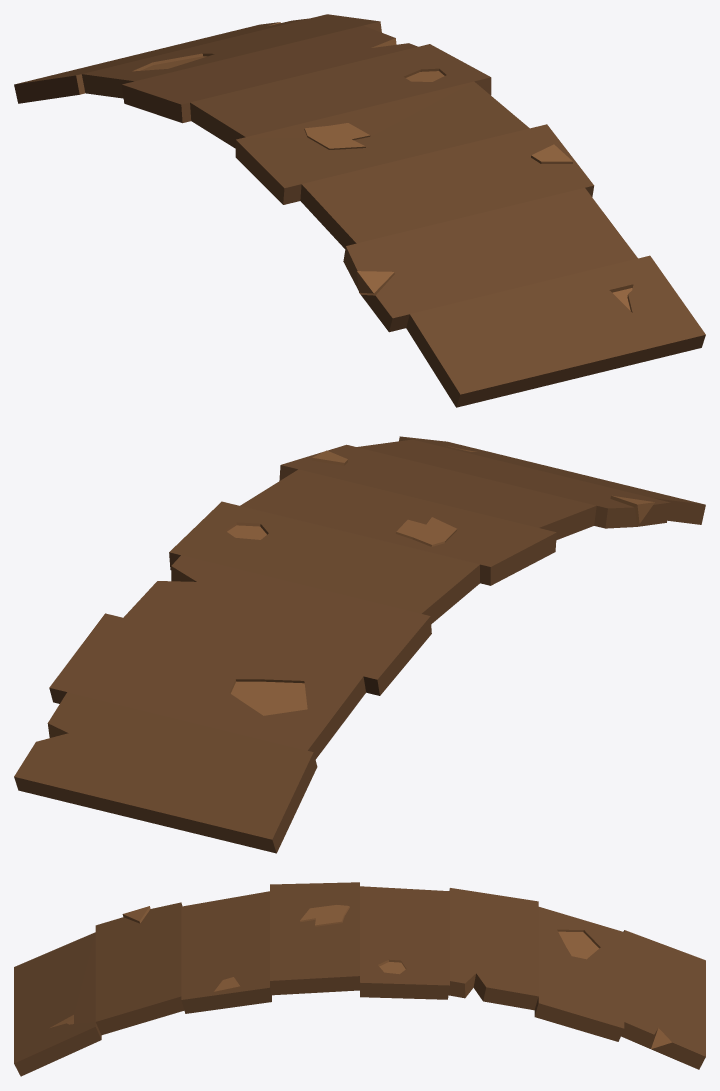
Rendered from Bridge_5_Light_Brown.fbx.
The picture shows the model from 3 angles, top to bottom: view 1: azimuth 30°, elevation 25°; view 2: azimuth 150°, elevation 25°; view 3: azimuth 270°, elevation 25°; orthographic projection. The views are drawn at different scales.
Visible parts, largest first — view 1: Bridge_5_Light_Brown_Part_1, Bridge_5_Light_Brown_Part_2, Bridge_5_Light_Brown_Part_3, Bridge_5_Light_Brown_Part_4; view 2: Bridge_5_Light_Brown_Part_4, Bridge_5_Light_Brown_Part_3, Bridge_5_Light_Brown_Part_2, Bridge_5_Light_Brown_Part_1; view 3: Bridge_5_Light_Brown_Part_2, Bridge_5_Light_Brown_Part_3, Bridge_5_Light_Brown_Part_1, Bridge_5_Light_Brown_Part_4.
Boxes of the visible parts, bbox=[...] form: Bridge_5_Light_Brown_Part_1: bbox=[343, 188, 705, 407]; Bridge_5_Light_Brown_Part_2: bbox=[235, 81, 594, 248]; Bridge_5_Light_Brown_Part_3: bbox=[122, 25, 491, 148]; Bridge_5_Light_Brown_Part_4: bbox=[14, 14, 381, 103]; Bridge_5_Light_Brown_Part_4: bbox=[14, 613, 365, 853]; Bridge_5_Light_Brown_Part_3: bbox=[123, 501, 479, 695]; Bridge_5_Light_Brown_Part_2: bbox=[240, 444, 596, 585]; Bridge_5_Light_Brown_Part_1: bbox=[357, 436, 705, 528]; Bridge_5_Light_Brown_Part_2: bbox=[181, 882, 359, 1013]; Bridge_5_Light_Brown_Part_3: bbox=[360, 886, 538, 1010]; Bridge_5_Light_Brown_Part_1: bbox=[14, 902, 184, 1076]; Bridge_5_Light_Brown_Part_4: bbox=[534, 907, 705, 1069].
Bounding box in the file's own units: 232 × 98.34 × 651.
